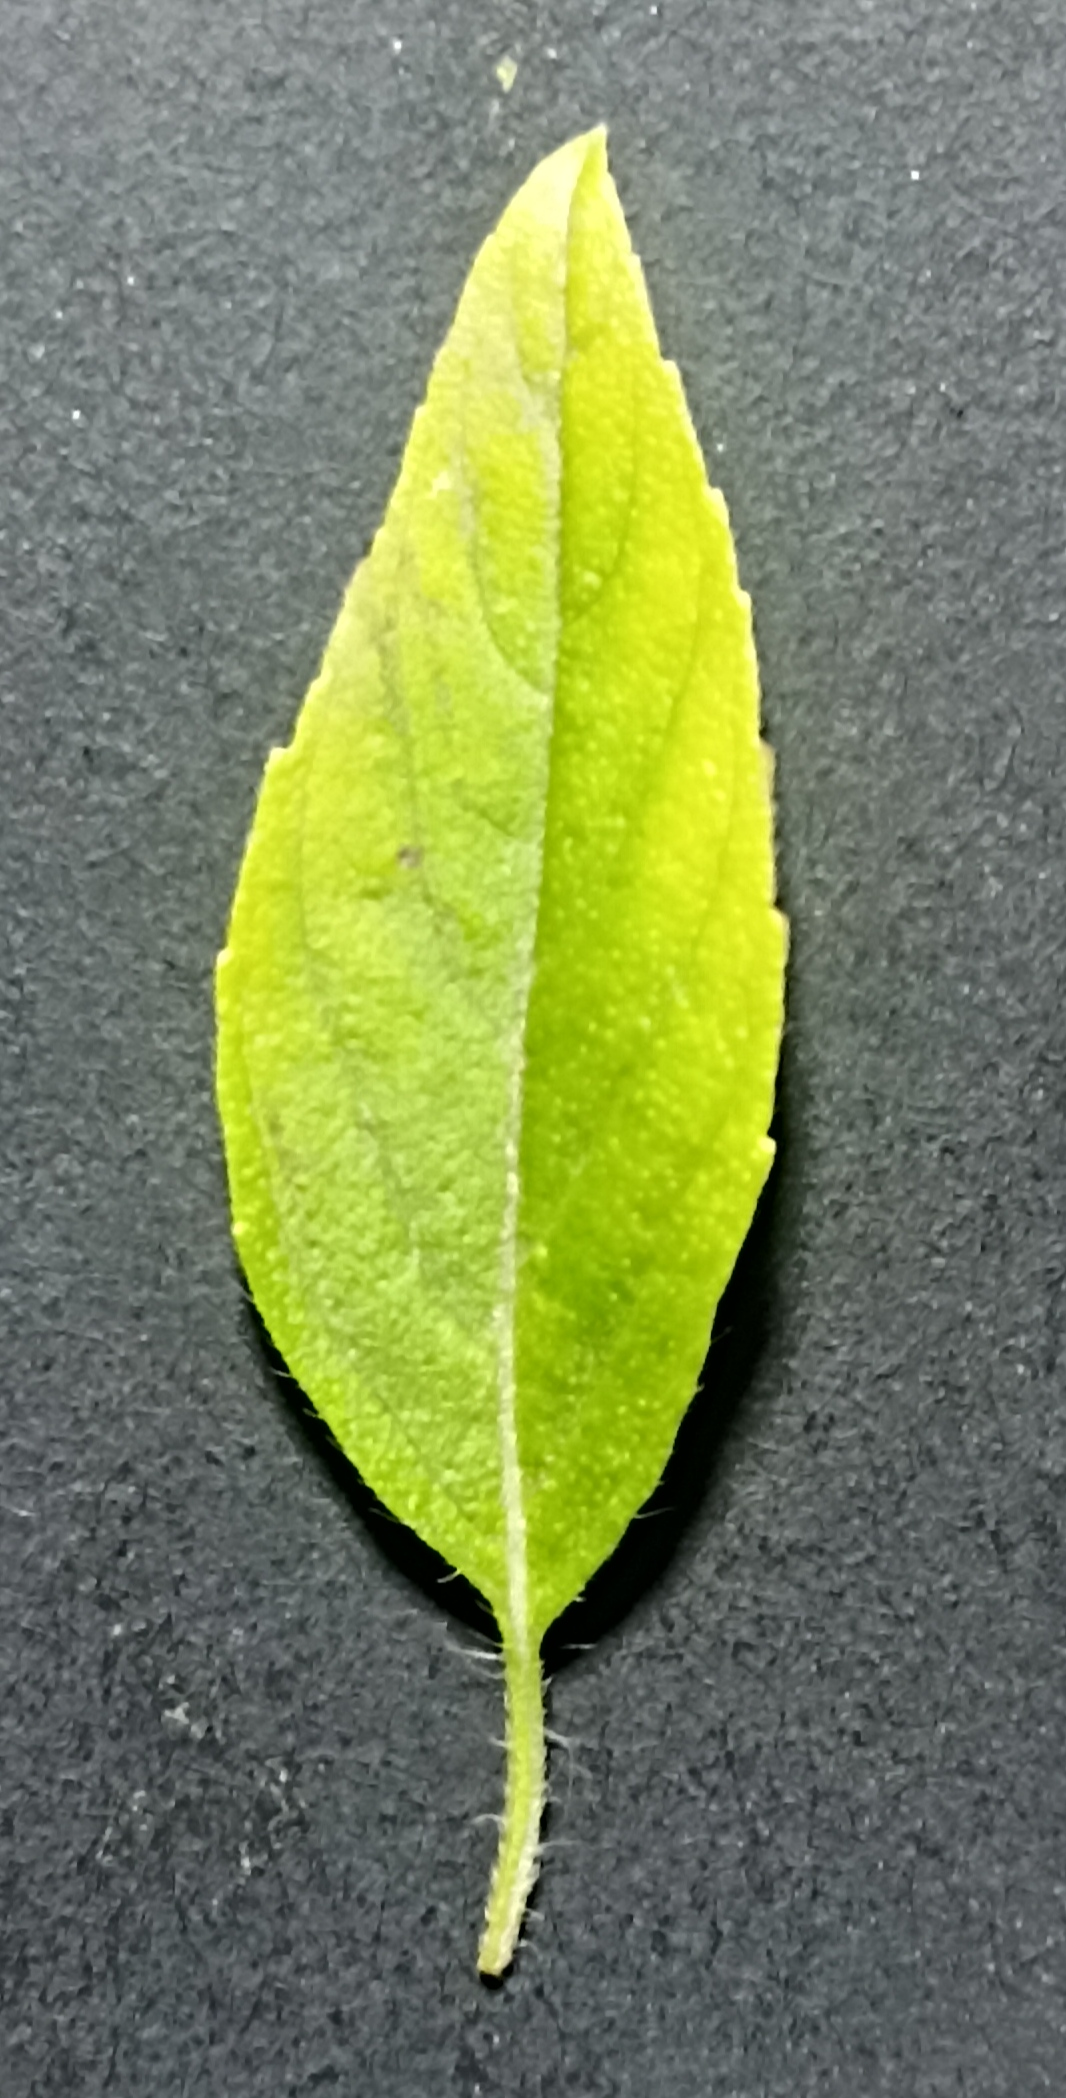Healthy: (185, 84, 808, 1674)
